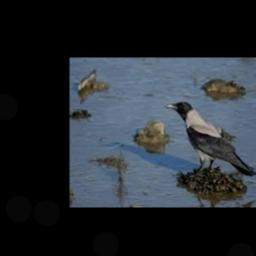Crow: (163, 101, 256, 176)
